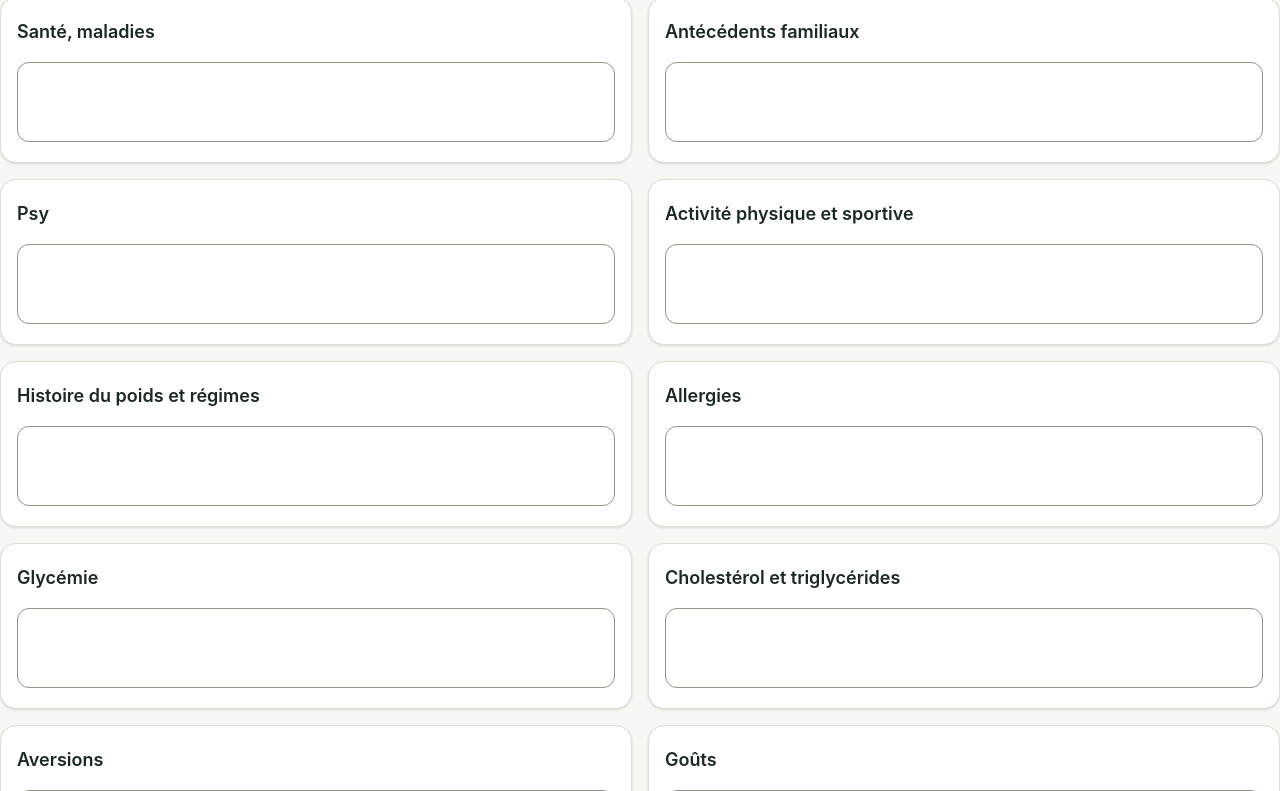
Test: FilePanel › saves a section when leaving it, and says so
The image size is (1280, 791).
In the text box labelled "Santé, maladies": (316, 102) [17, 62, 615, 142], type "Hypertension traitée. Diabète de type 2."
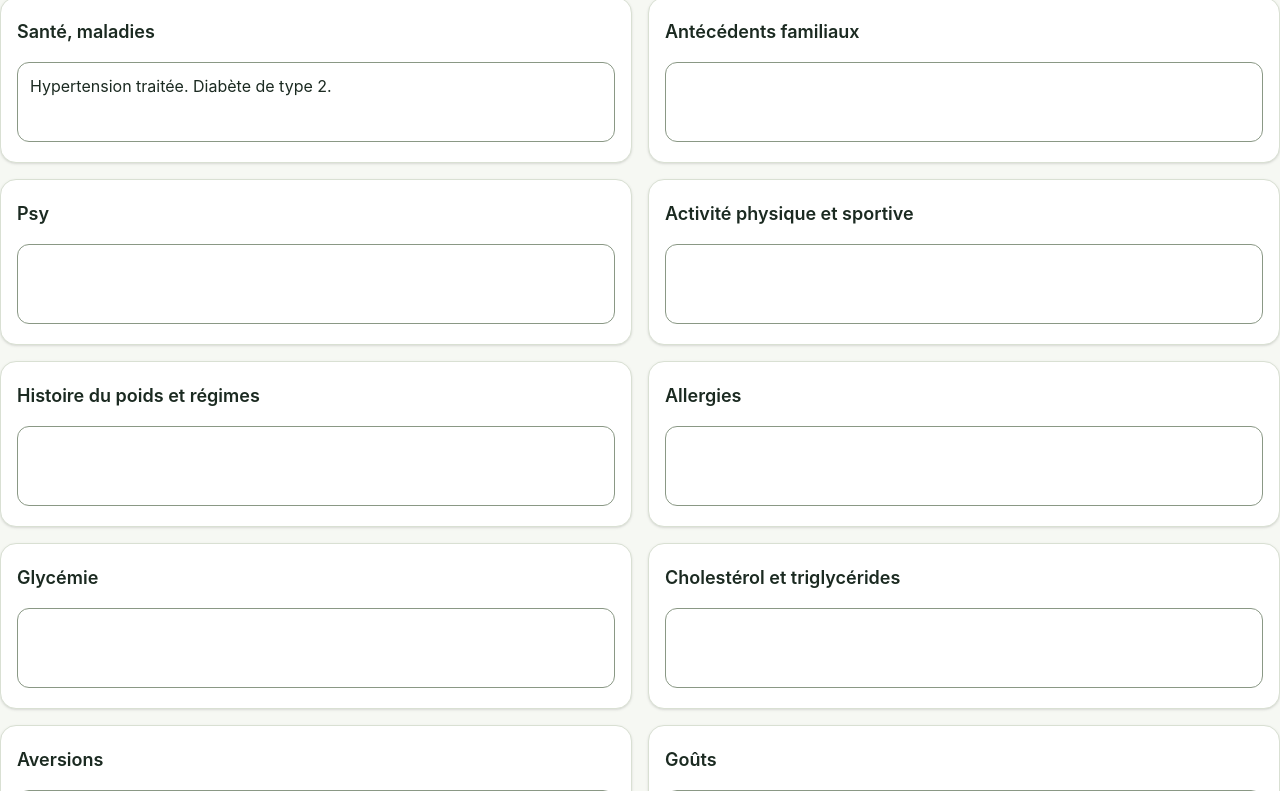
Leave the text box labelled "Santé, maladies", box [17, 62, 615, 142]
(page scrolled)
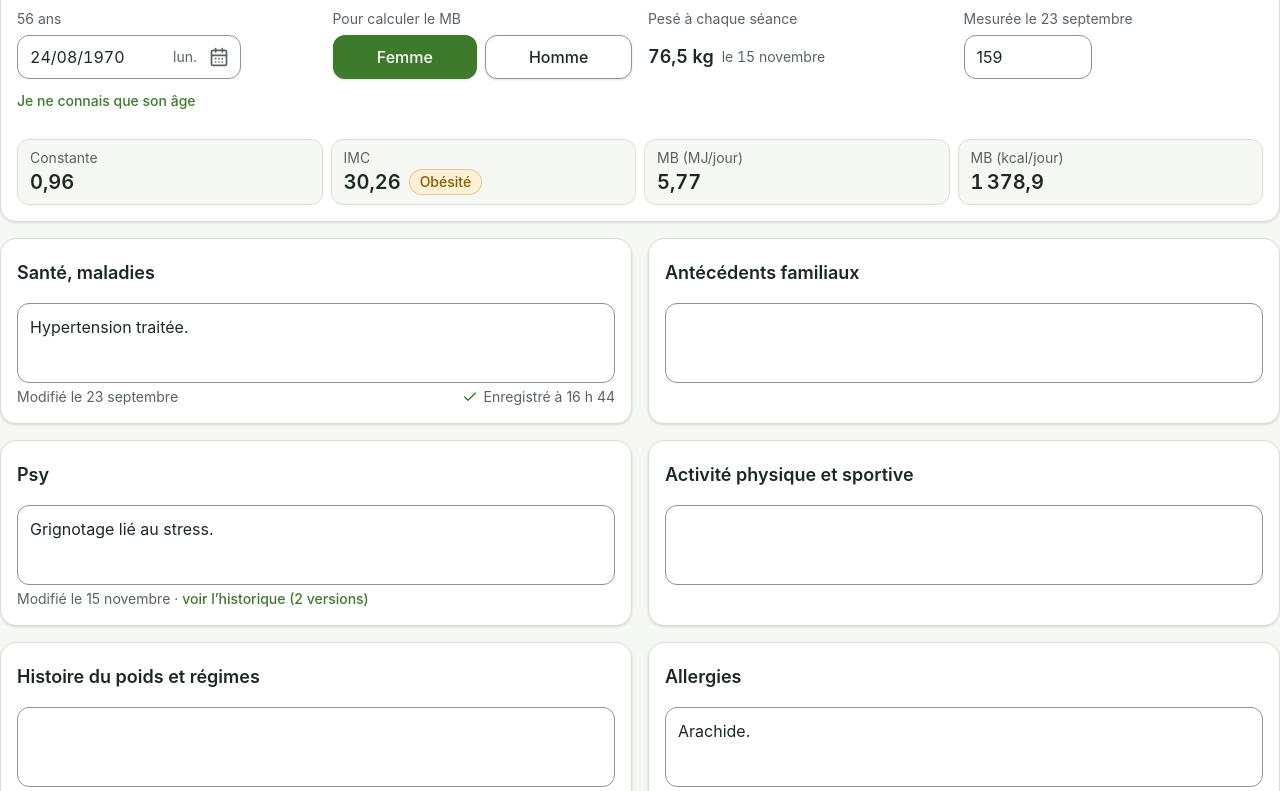
expect the text "Enregistré à 16 h 44" is shown: met, box [462, 387, 615, 407]
